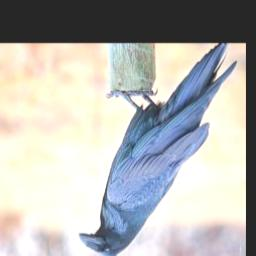Crow: (76, 44, 237, 256)
